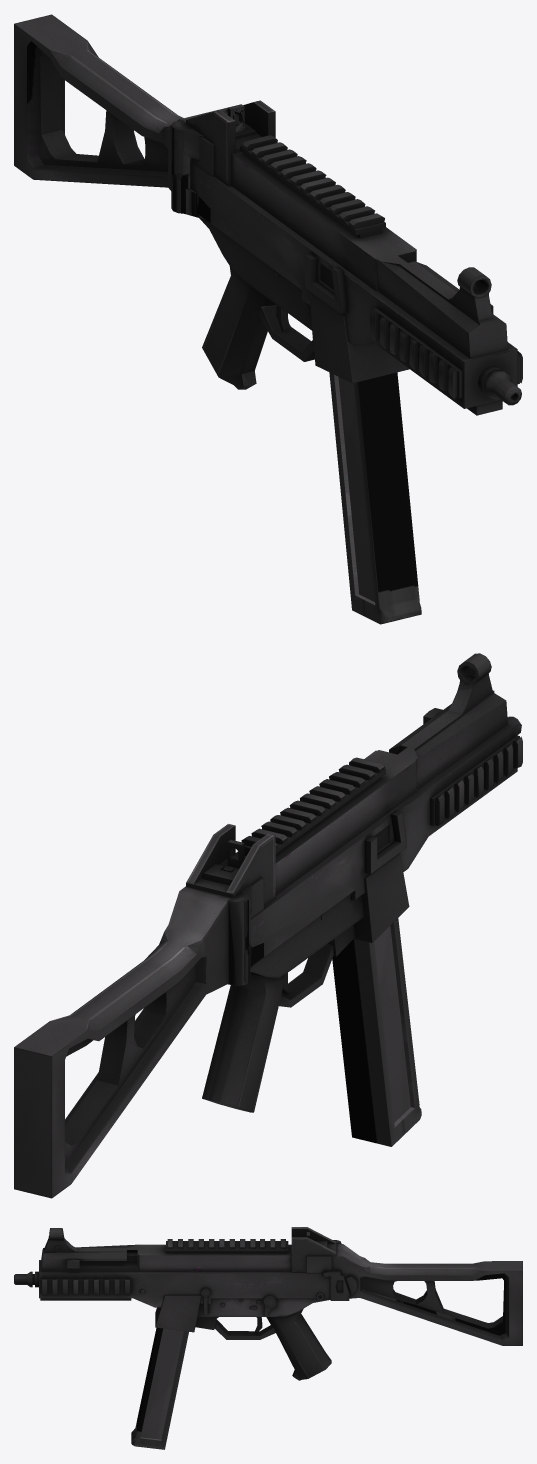
The model's file is UMP-45.fbx.
3 renders of one model, top to bottom at view 1: azimuth 30°, elevation 25°; view 2: azimuth 150°, elevation 25°; view 3: azimuth 270°, elevation 25°, orthographic. The views are drawn at different scales.
Visible parts, largest first — view 1: UMP-45; view 2: UMP-45; view 3: UMP-45.
Boxes of the visible parts, bbox=[...] form: UMP-45: bbox=[14, 14, 522, 624]; UMP-45: bbox=[14, 653, 522, 1198]; UMP-45: bbox=[14, 1227, 522, 1449].
Bounding box in the file's own units: 0.614 × 3.3 × 7.03.
